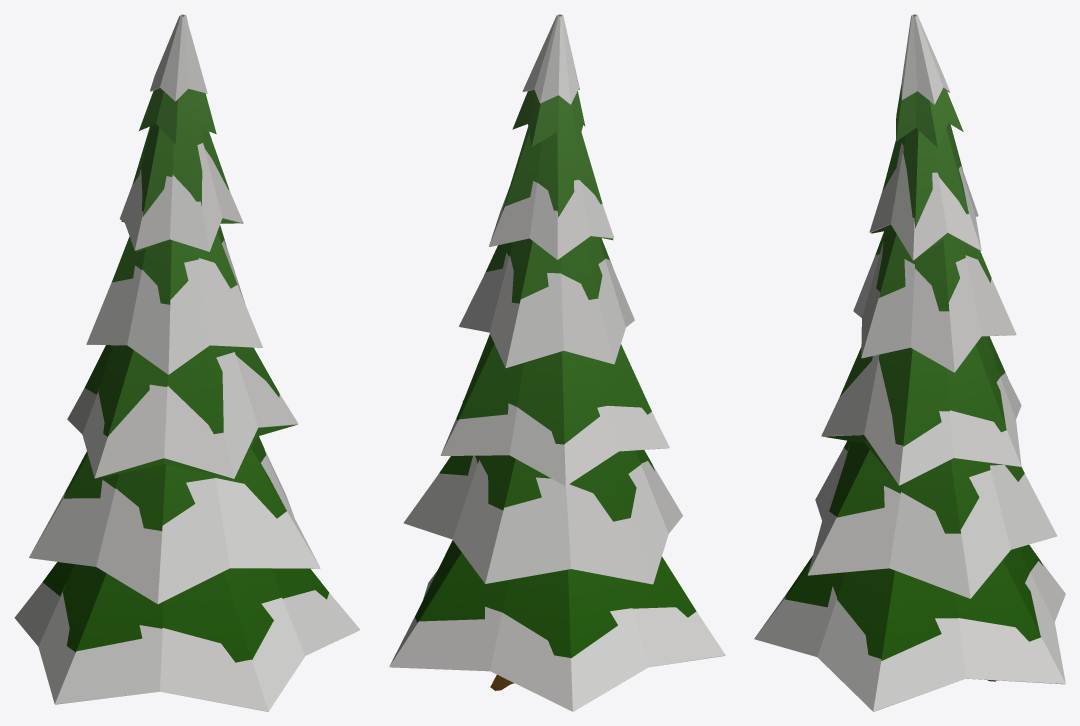
Rendered from Tree3.fbx.
3 views of the same model, side by side, from view 1: azimuth 30°, elevation 25°; view 2: azimuth 150°, elevation 25°; view 3: azimuth 270°, elevation 25° (orthographic). The views are drawn at different scales.
Parts seen in each view (by area): view 1: Tree_3; view 2: Tree_3; view 3: Tree_3.
Part boxes in pixels (bbox=[...]): Tree_3: bbox=[14, 14, 360, 711]; Tree_3: bbox=[389, 14, 725, 711]; Tree_3: bbox=[754, 14, 1065, 711].
Bounding box in the file's own units: 241 × 506 × 218.
Materials: 2 (1 with a texture image).
